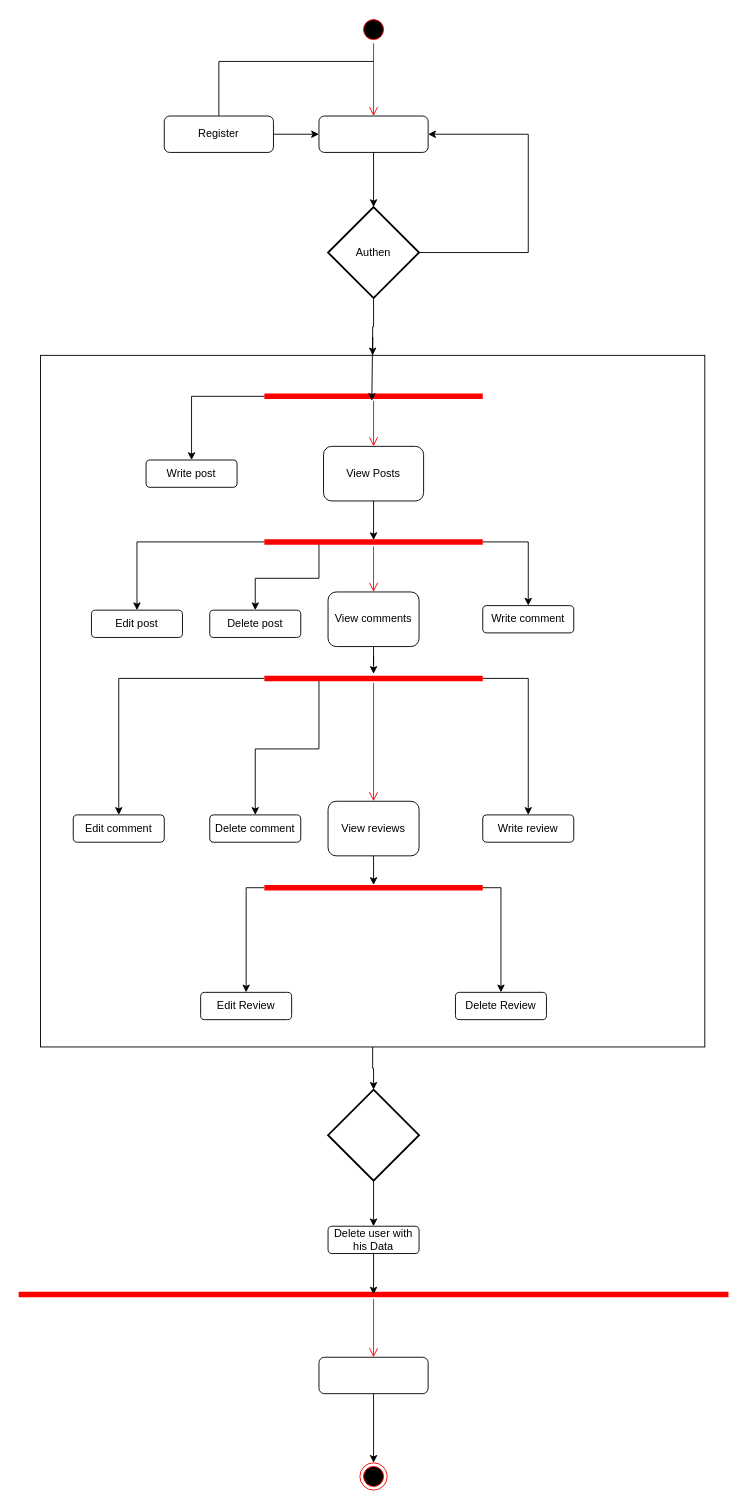
This 746x1506 diagram has some shape labels left out. Here are the shapes that lost their labels. From the top down, the centre of each, then its label:
At point (373, 133): "Login".
At point (373, 1134): "Is Admin?".
At point (373, 1375): "logout".
